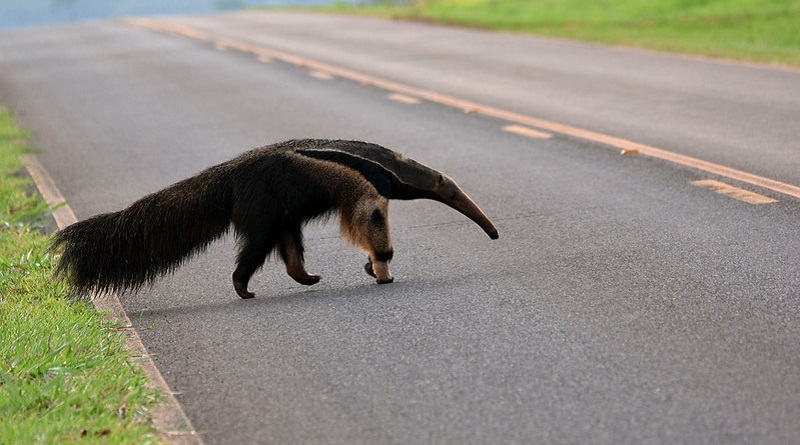TamanduaBandeira: (41, 129, 511, 301)
